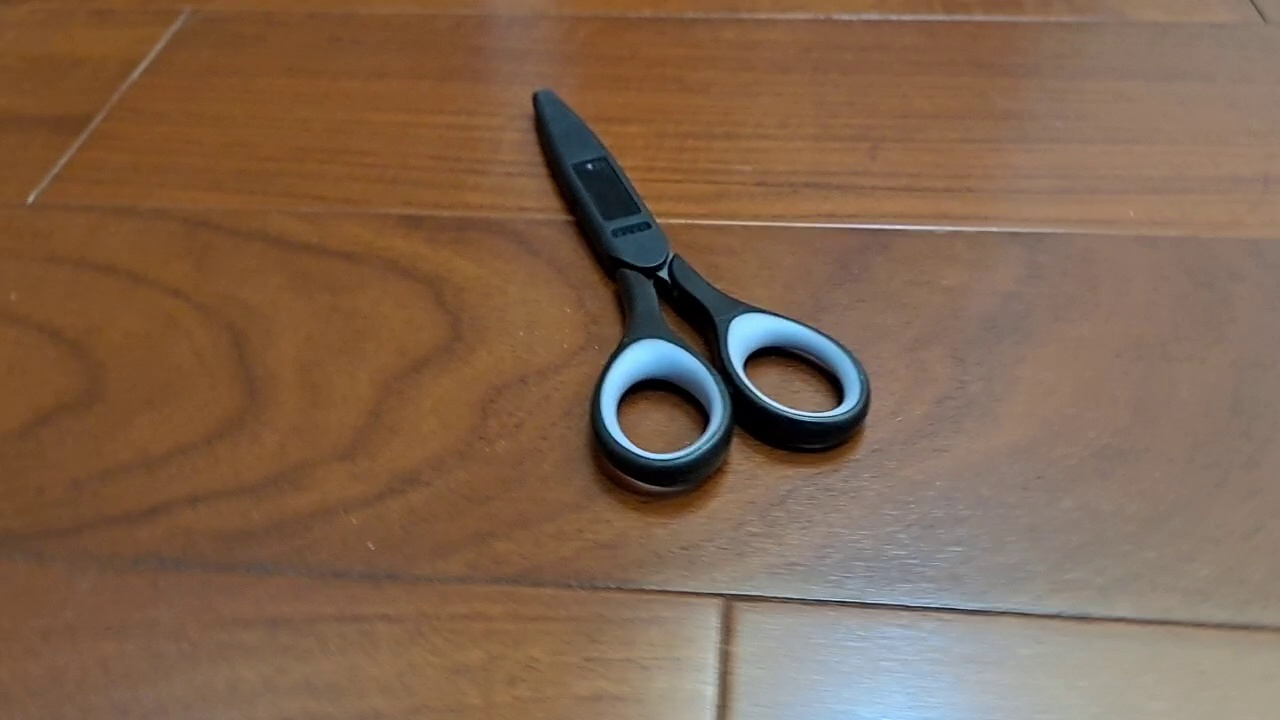scissors: (530, 86, 871, 488)
